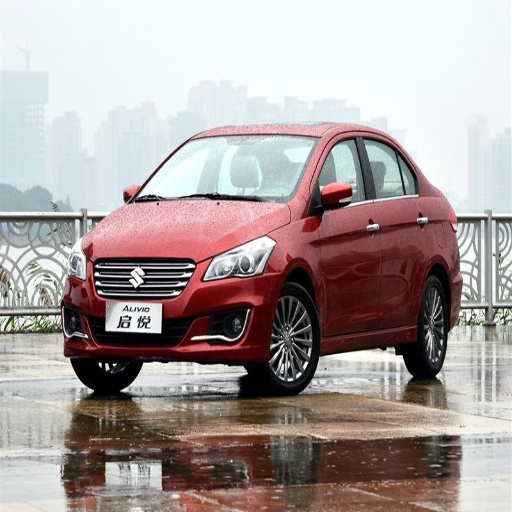front_bumper: (65, 256, 283, 370)
front_glass: (130, 135, 318, 202)
front_left_door: (308, 131, 380, 335)
